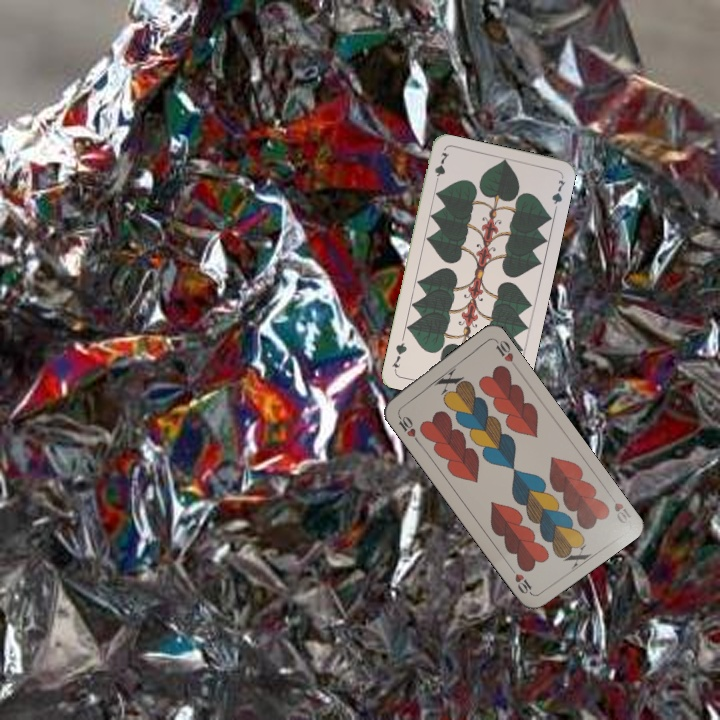G7: (430, 148, 452, 188)
H10: (393, 409, 421, 445), (610, 498, 634, 526)
